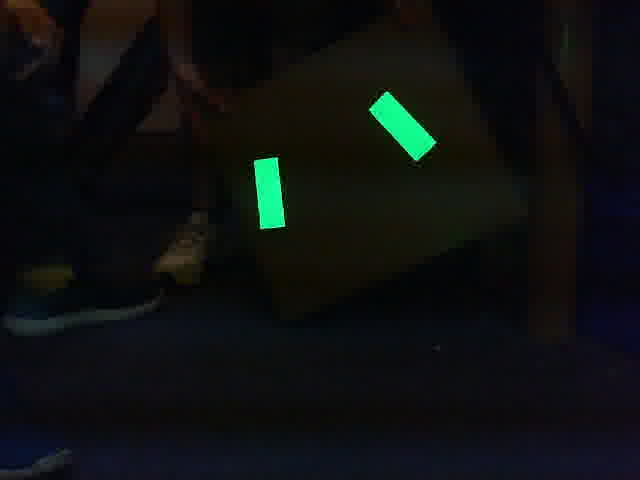target: (252, 89, 439, 230)
